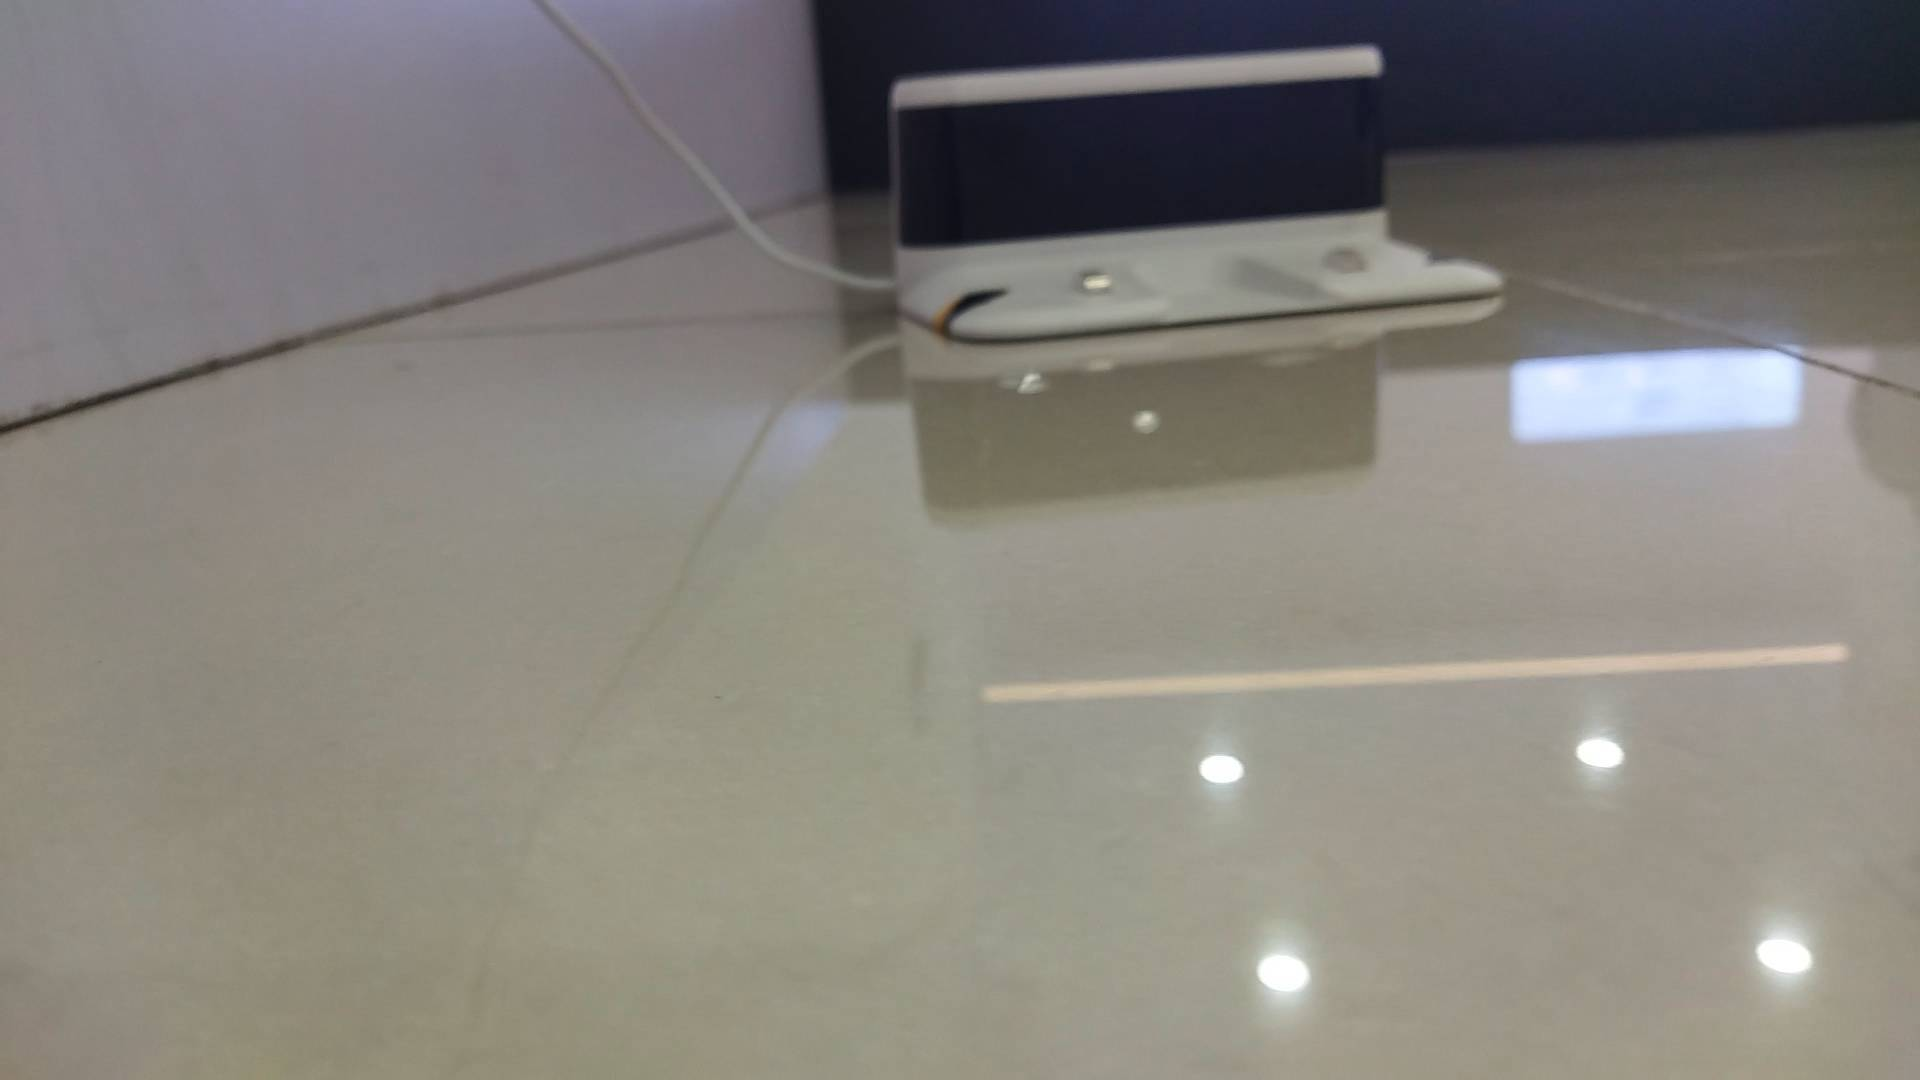recharge seat: (885, 41, 1505, 342)
